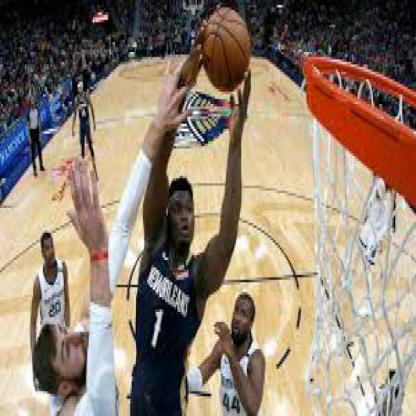basketball: (202, 7, 251, 94)
rim: (302, 52, 415, 213)
